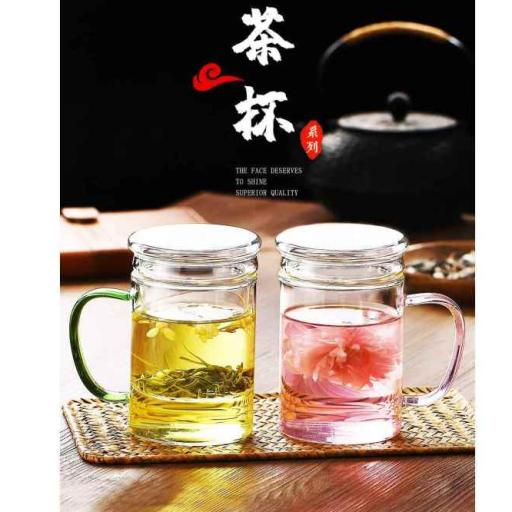cup: (72, 224, 261, 444), (277, 224, 464, 444)
